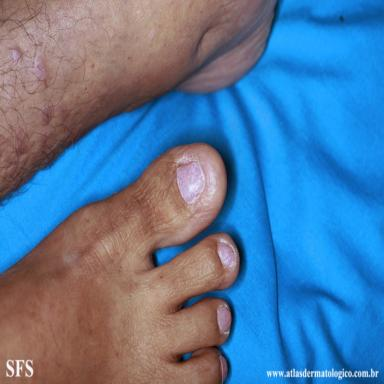Epidermolysis-Bullosa-Pruriginosa: (176, 161, 205, 204), (217, 242, 236, 269), (34, 52, 47, 80), (41, 102, 53, 124), (12, 48, 23, 64)
